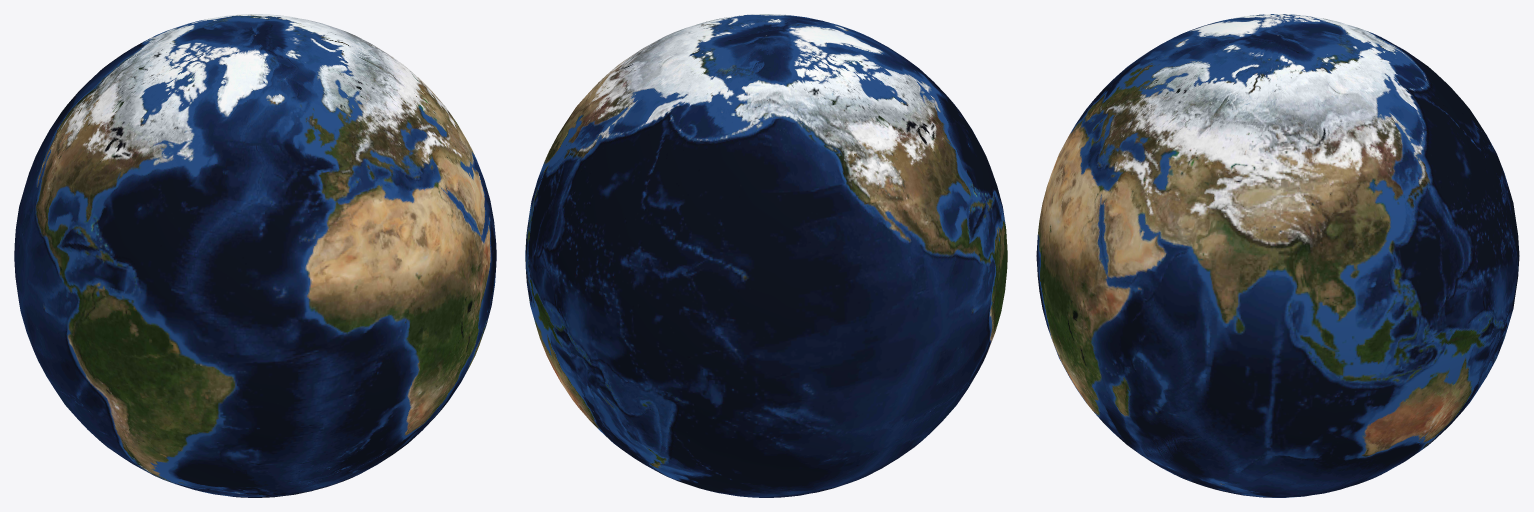
Rendered from earth-compressed.glb.
The picture shows the model from 3 angles, left to right: view 1: azimuth 30°, elevation 25°; view 2: azimuth 150°, elevation 25°; view 3: azimuth 270°, elevation 25°; orthographic projection.
Visible parts, largest first — view 1: Earth; view 2: Earth; view 3: Earth.
Part boxes in pixels (x1,y1,x2,y2): Earth: (14,14,496,497); Earth: (525,14,1007,497); Earth: (1036,14,1519,497).
Bounding box in the file's own units: 8483 × 8536 × 8483.
Materials: 1 (1 with a texture image).
